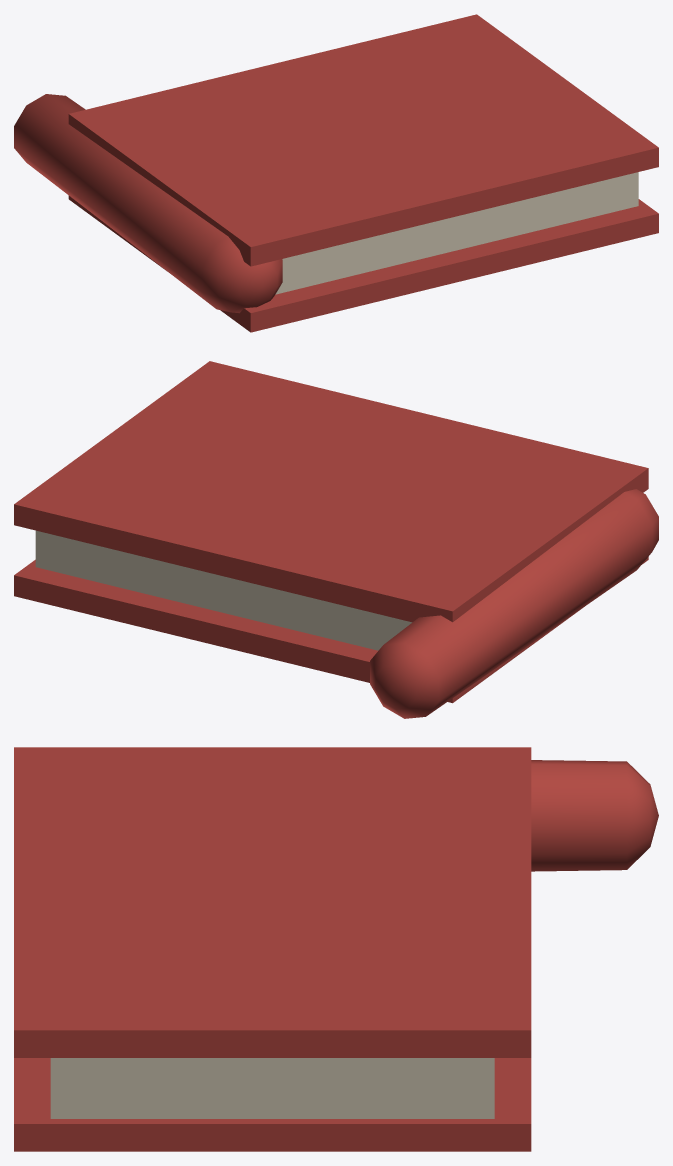
The model's file is item_book_red.glb.
3 renders of one model, top to bottom at view 1: azimuth 30°, elevation 25°; view 2: azimuth 150°, elevation 25°; view 3: azimuth 270°, elevation 25°, orthographic. The views are drawn at different scales.
Visible parts, largest first — view 1: item_book_red; view 2: item_book_red; view 3: item_book_red.
Boxes of the visible parts, x1,y1,x2,y2 form: item_book_red: (14,14,658,332); item_book_red: (14,361,658,718); item_book_red: (14,747,658,1151).
Size of the model in its own units: 0.117 by 0.022 by 0.106.
